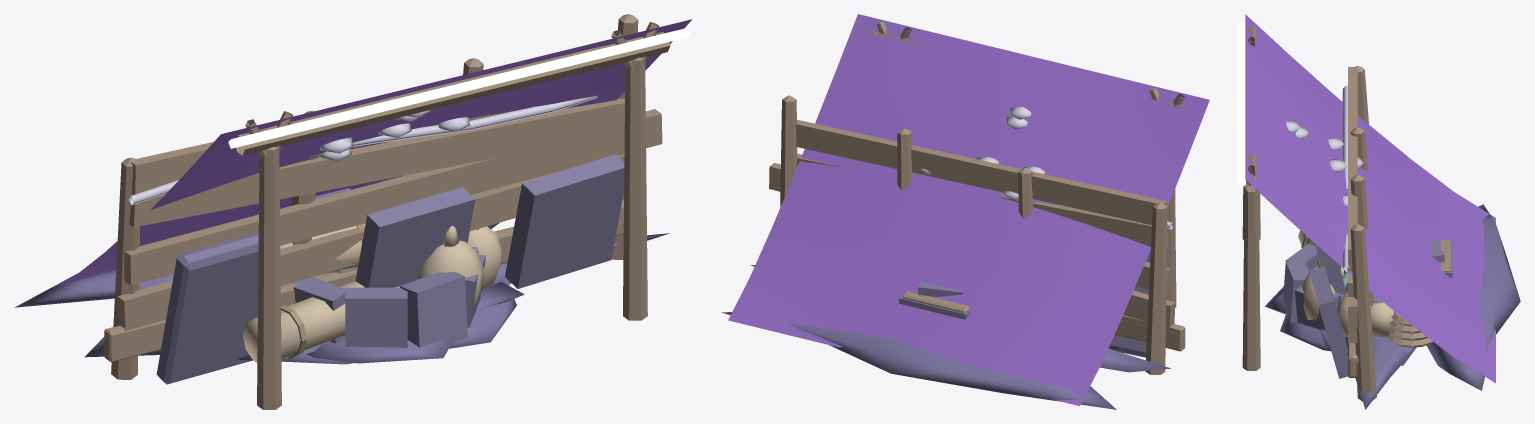
Rendered from FungalF8Kit.fbx.
3 views of the same model, side by side, from view 1: azimuth 30°, elevation 25°; view 2: azimuth 150°, elevation 25°; view 3: azimuth 270°, elevation 25° (orthographic). The views are drawn at different scales.
Visible parts, largest first — view 1: Barricade__WOOD, Barricade__TRIM, CapShelter__WOOD, CapShelter__CAP, CrystalBrazier__TRIM, CampSupplies__FOLIAGE, CapShelter__GLOW, CrystalBrazier__MOSS, Barricade__STEM, CapShelter__MOSS, CampSupplies__MOSS, CapShelter__STEM; view 2: CapShelter__CAP, Barricade__WOOD, CapShelter__MOSS, CapShelter__WOOD, Barricade__MOSS, CampSupplies__TRIM, CapShelter__STEM, Barricade__TRIM, CampSupplies__WOOD; view 3: CapShelter__CAP, Barricade__WOOD, CapShelter__MOSS, CapShelter__WOOD, Barricade__TRIM, CrystalBrazier__TRIM, Barricade__MOSS, CapShelter__GLOW, CampSupplies__WOOD, CampSupplies__FOLIAGE, CampSupplies__MOSS, CapShelter__STEM (+4 smaller).
Boxes of the visible parts, left/top/right/bottom form: Barricade__WOOD: left=104, top=14, right=662, bottom=379; Barricade__TRIM: left=156, top=154, right=624, bottom=384; CapShelter__WOOD: left=236, top=22, right=670, bottom=409; CapShelter__CAP: left=51, top=19, right=691, bottom=287; CrystalBrazier__TRIM: left=292, top=246, right=485, bottom=348; CampSupplies__FOLIAGE: left=243, top=223, right=502, bottom=362; CapShelter__GLOW: left=228, top=28, right=689, bottom=148; CrystalBrazier__MOSS: left=306, top=282, right=524, bottom=363; Barricade__STEM: left=129, top=95, right=598, bottom=205; CapShelter__MOSS: left=15, top=222, right=499, bottom=307; CampSupplies__MOSS: left=238, top=279, right=516, bottom=364; CapShelter__STEM: left=318, top=110, right=469, bottom=160; CapShelter__CAP: left=728, top=14, right=1209, bottom=406; Barricade__WOOD: left=769, top=95, right=1185, bottom=374; CapShelter__MOSS: left=722, top=312, right=1116, bottom=409; CapShelter__WOOD: left=869, top=21, right=1187, bottom=307; Barricade__MOSS: left=750, top=265, right=1171, bottom=372; CampSupplies__TRIM: left=899, top=281, right=969, bottom=319; CapShelter__STEM: left=921, top=107, right=1044, bottom=199; Barricade__TRIM: left=1110, top=248, right=1168, bottom=357; CampSupplies__WOOD: left=902, top=291, right=969, bottom=312; CapShelter__CAP: left=1245, top=14, right=1495, bottom=383; Barricade__WOOD: left=1348, top=66, right=1376, bottom=401; CapShelter__MOSS: left=1423, top=204, right=1520, bottom=390; CapShelter__WOOD: left=1242, top=25, right=1260, bottom=370; Barricade__TRIM: left=1309, top=243, right=1347, bottom=378; CrystalBrazier__TRIM: left=1283, top=243, right=1382, bottom=330; Barricade__MOSS: left=1345, top=330, right=1410, bottom=409; CapShelter__GLOW: left=1238, top=21, right=1245, bottom=187; CampSupplies__WOOD: left=1301, top=235, right=1450, bottom=347; CampSupplies__FOLIAGE: left=1298, top=230, right=1371, bottom=337; CampSupplies__MOSS: left=1280, top=315, right=1422, bottom=365; CapShelter__STEM: left=1286, top=120, right=1363, bottom=206.
Size of the model in its own units: 14.9 by 7.48 by 8.8.
